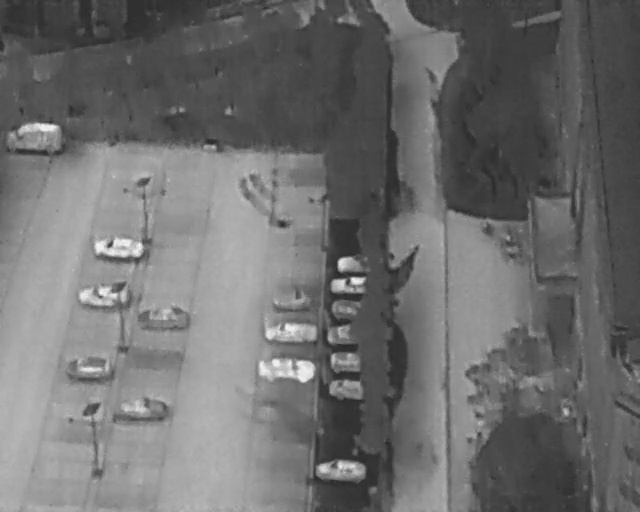Car: (5, 122, 62, 155), (257, 358, 316, 382), (79, 283, 132, 307), (117, 398, 168, 422), (316, 458, 366, 482), (67, 356, 113, 381), (91, 238, 143, 259), (261, 324, 316, 342), (139, 308, 188, 328), (328, 378, 364, 400), (330, 351, 366, 373), (331, 298, 367, 319), (323, 326, 365, 343), (330, 276, 368, 293), (336, 256, 372, 272)
